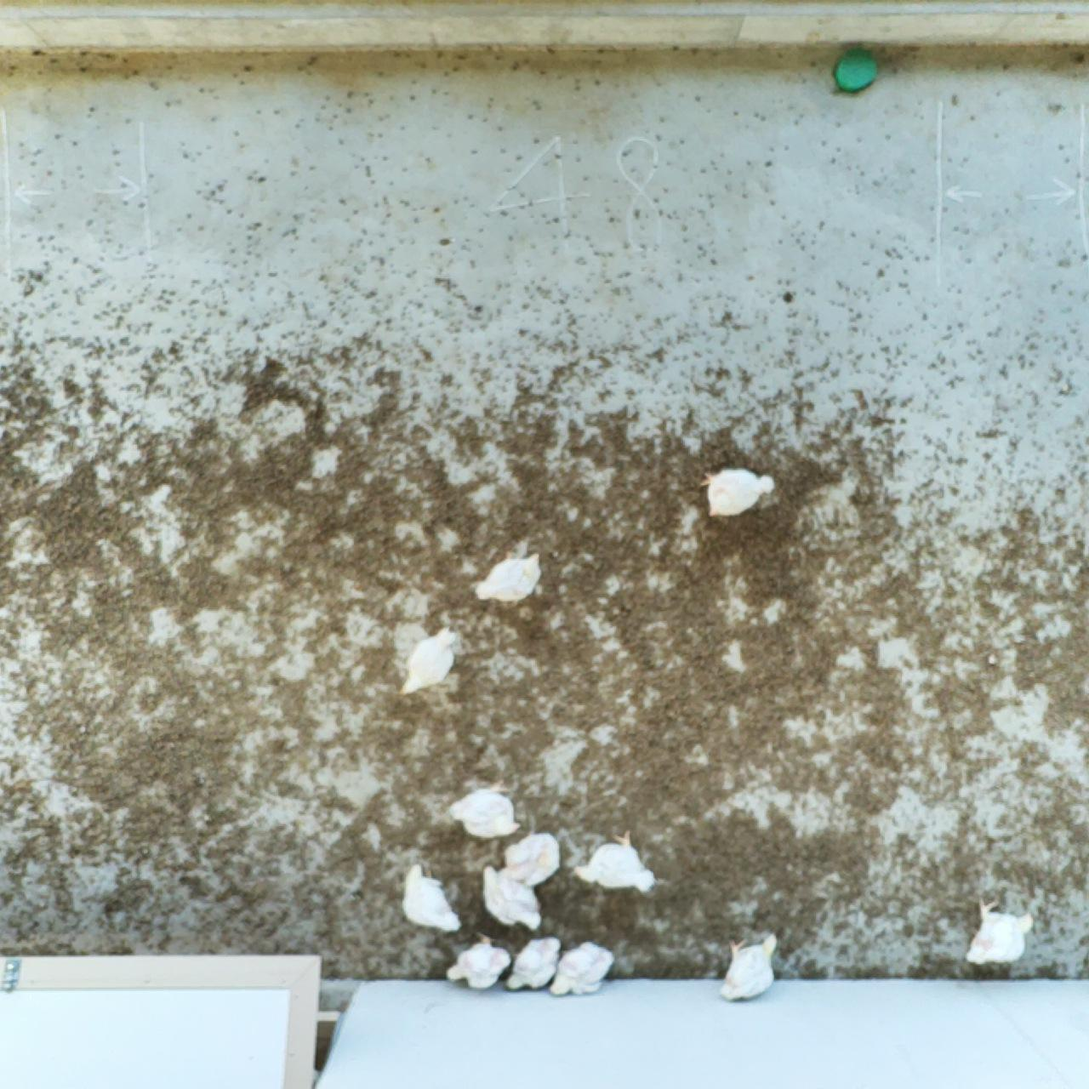chicken: (962, 890, 1037, 972), (573, 830, 658, 896), (392, 626, 466, 701), (398, 860, 467, 939), (449, 775, 526, 843), (697, 460, 781, 522), (715, 931, 787, 1002), (471, 542, 546, 606), (479, 860, 544, 932), (547, 937, 619, 1002), (441, 932, 517, 991), (499, 935, 565, 999), (499, 830, 564, 889)
